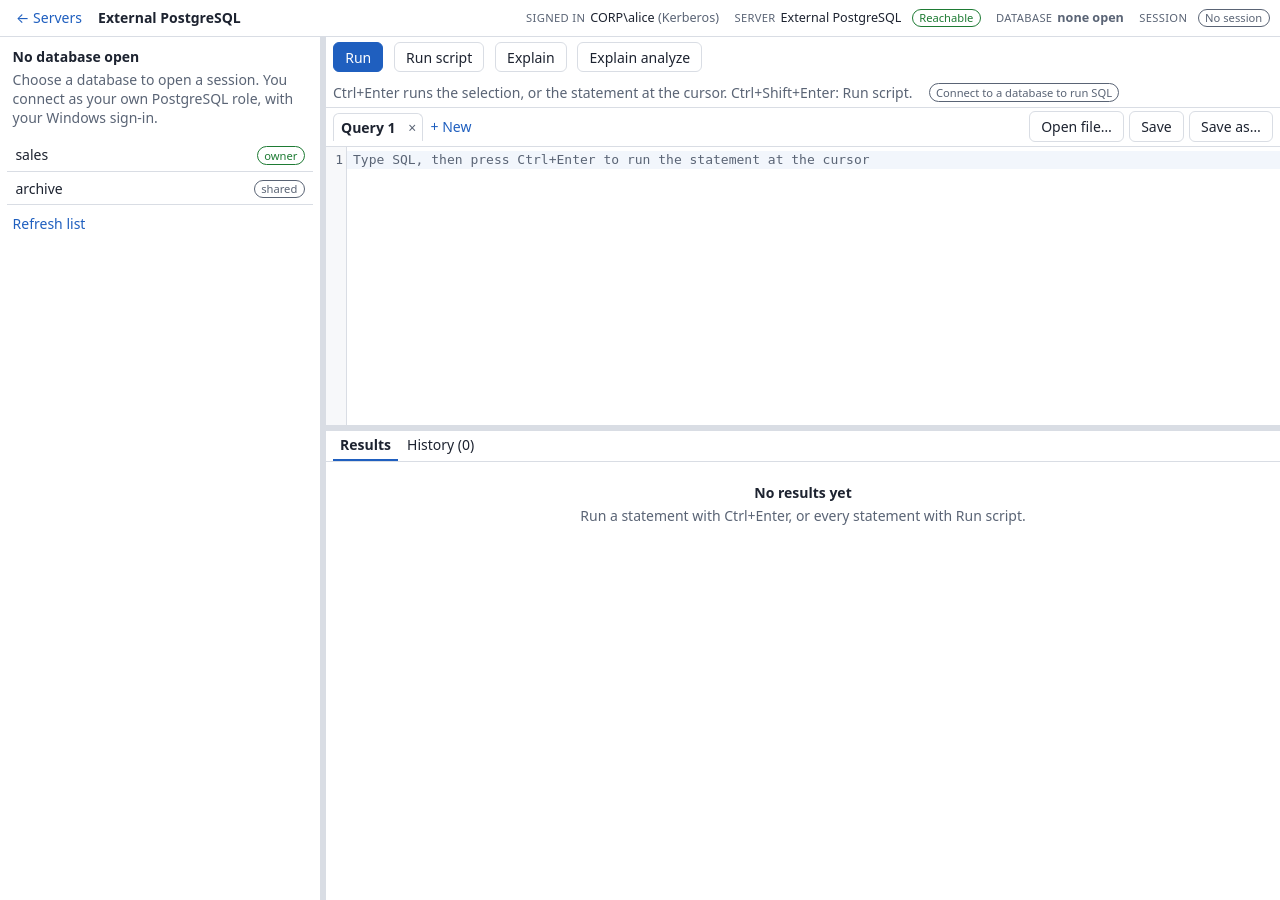
Test: Workspace editor (admin Phase 2) › switches database from the object explorer through the same safe switch
The image size is (1280, 900).
Click the button "sales owner" at coordinates (32, 155), box [7,139,313,172]
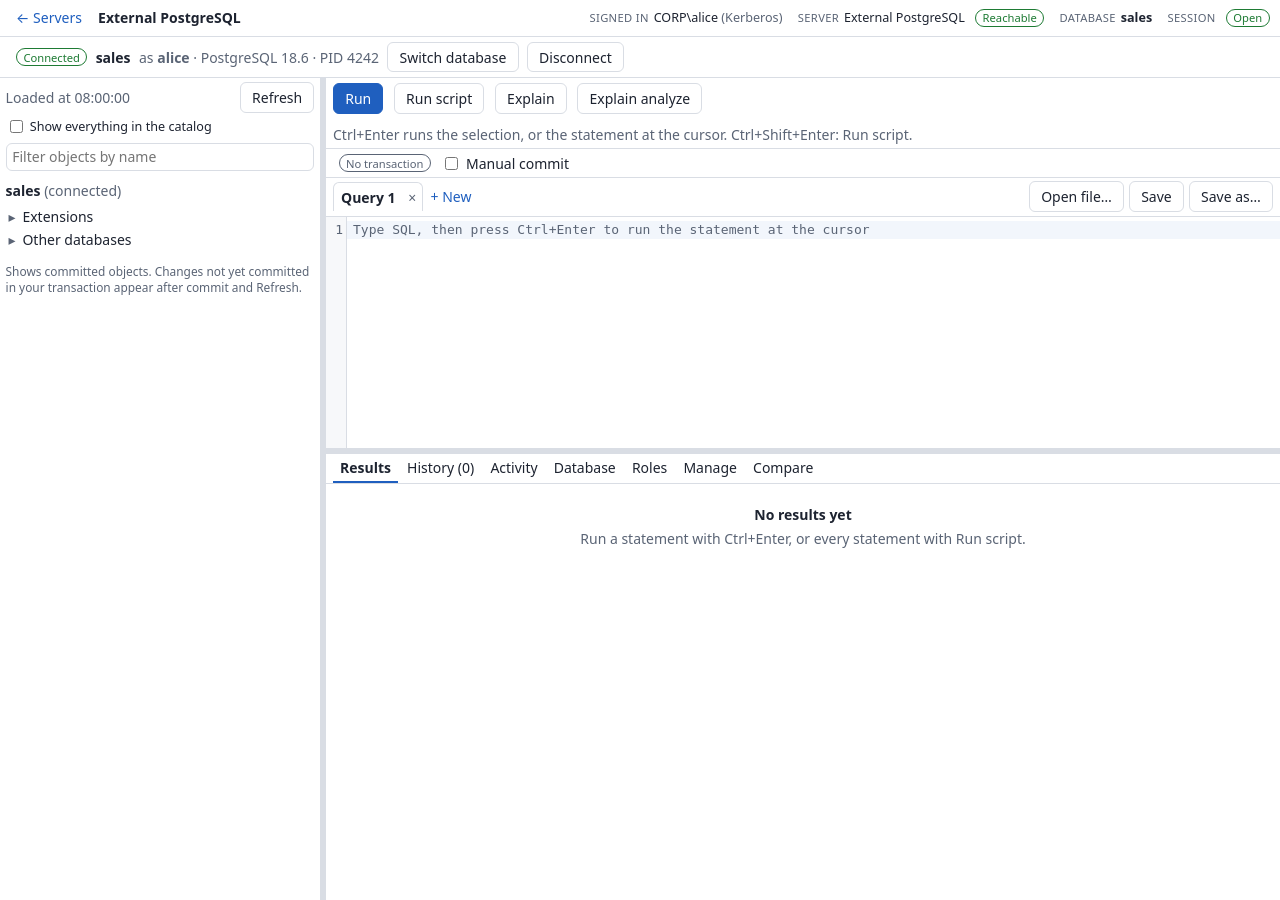
Check: the field named "SQL editor" is shown, box [347,221,1279,239]
Check: the button "Switch database" is shown, box [387,42,518,72]
Click the button "Other databases" at coordinates (70, 239), box [6,228,134,250]
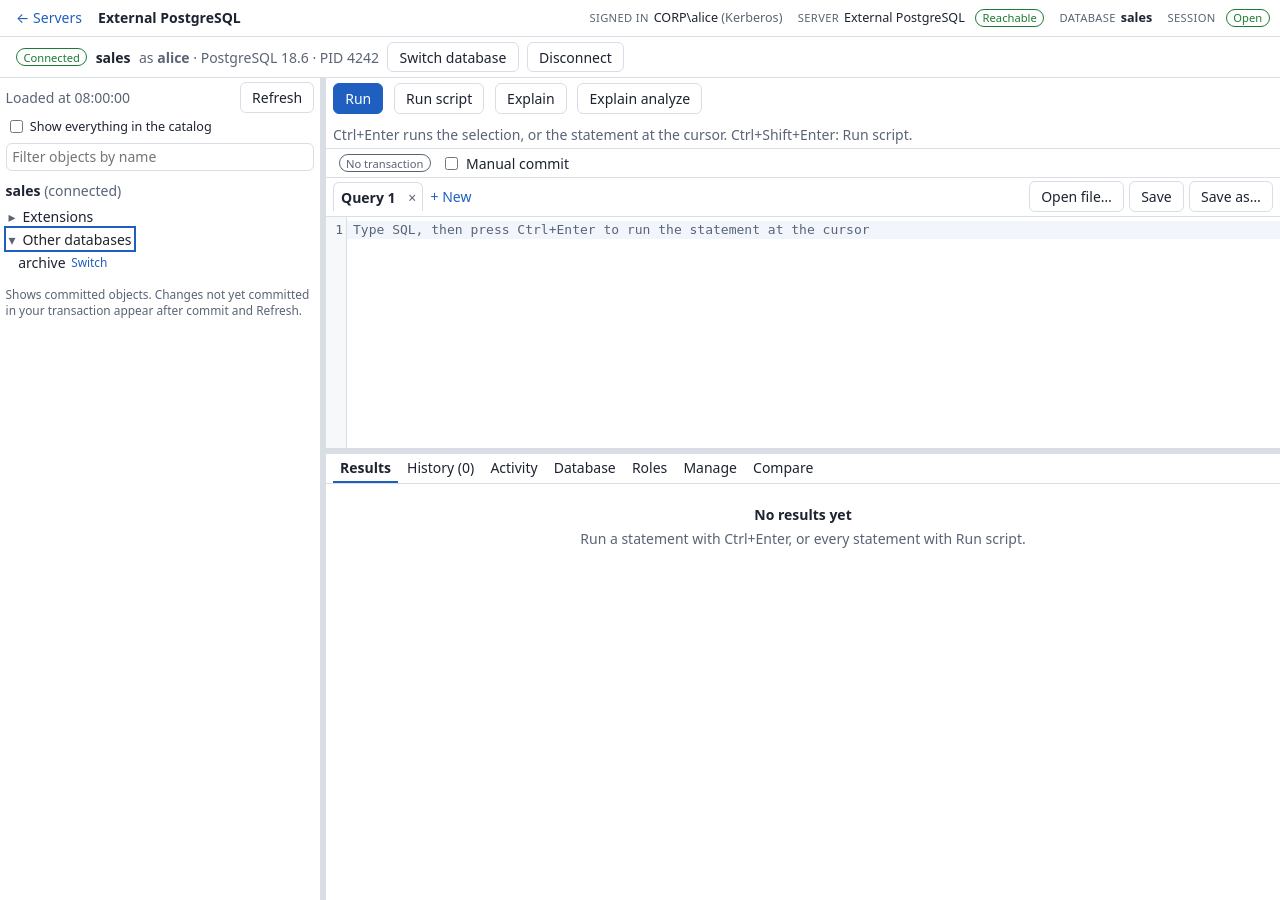
Click the button with aria-label "Switch to archive" at coordinates (89, 262), box [66,252,113,273]
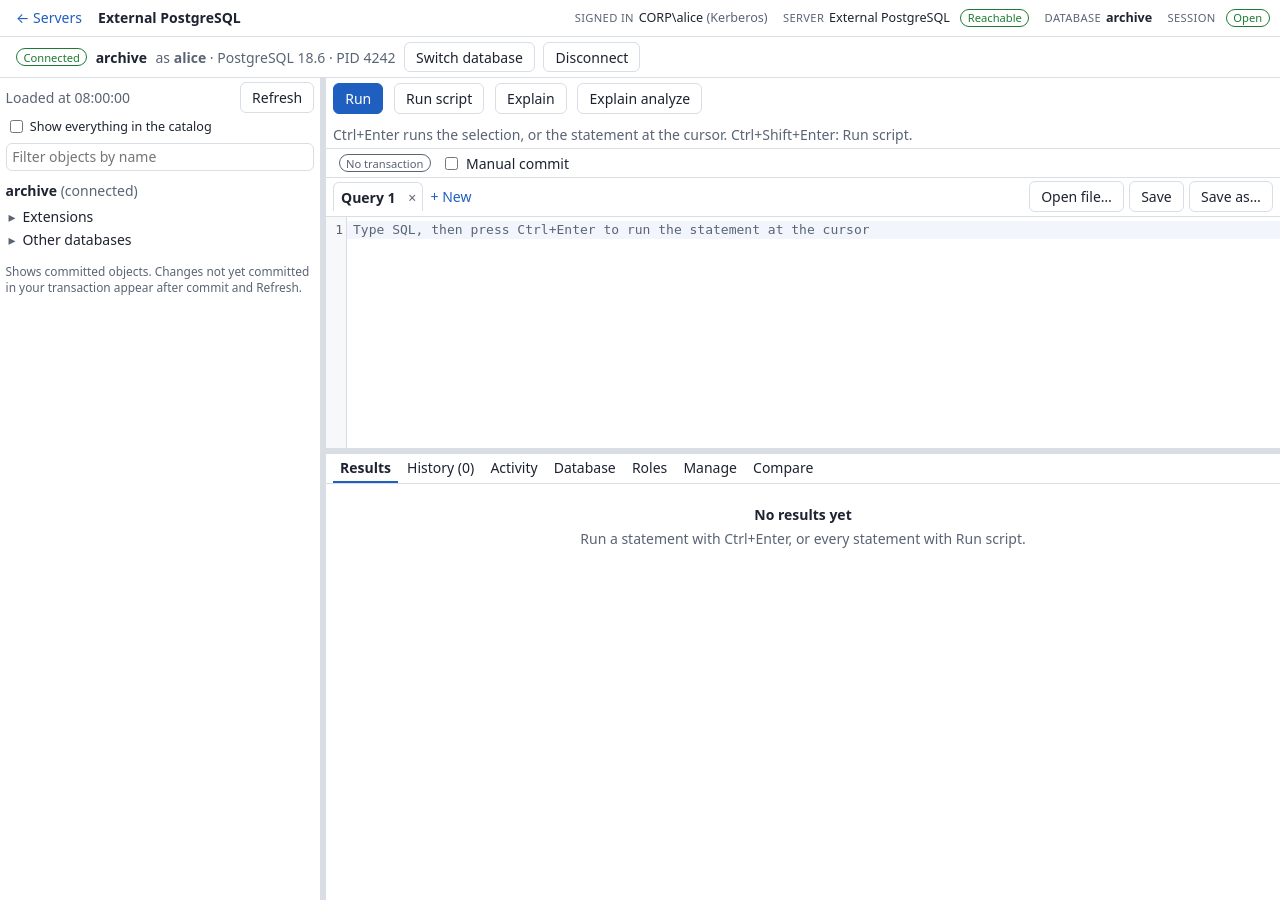
Check: the text "archive" in the row of "· PostgreSQL" is shown, box [96,48,147,67]
